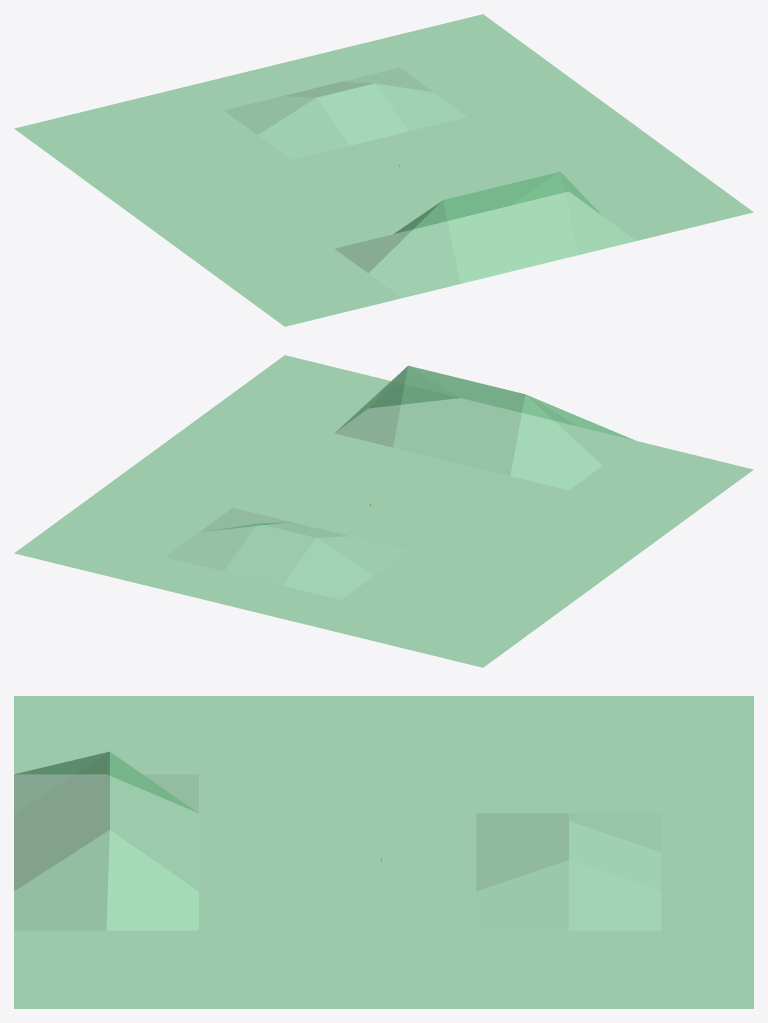
File: test collections3.glb
3 views of the same model, one above another, from view 1: azimuth 30°, elevation 25°; view 2: azimuth 150°, elevation 25°; view 3: azimuth 270°, elevation 25° (orthographic). The views are drawn at different scales.
Parts seen in each view (by area): view 1: TEMPLATE_GROUND.001; view 2: TEMPLATE_GROUND.001; view 3: TEMPLATE_GROUND.001.
Boxes of the visible parts, <box> form: TEMPLATE_GROUND.001: <box>14,14,753,326</box>; TEMPLATE_GROUND.001: <box>14,355,753,667</box>; TEMPLATE_GROUND.001: <box>14,696,753,1008</box>.
Bounding box in the file's own units: 16.63 × 1.82 × 16.63.
